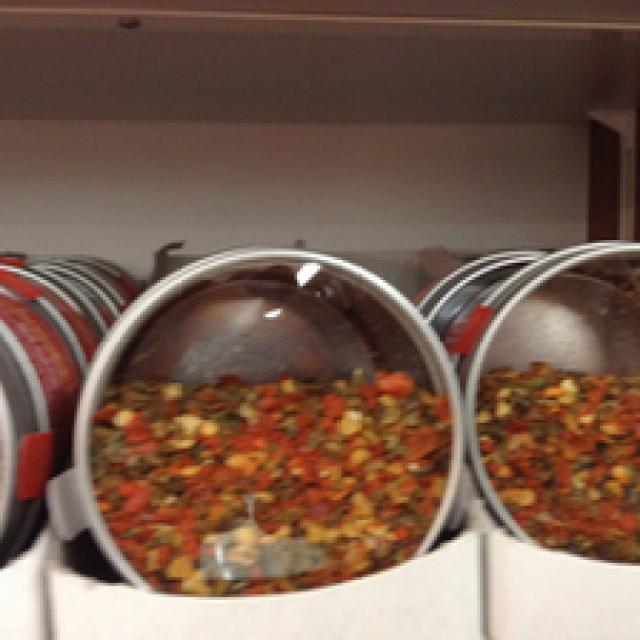groceries: (66, 243, 460, 591), (466, 240, 637, 563)
